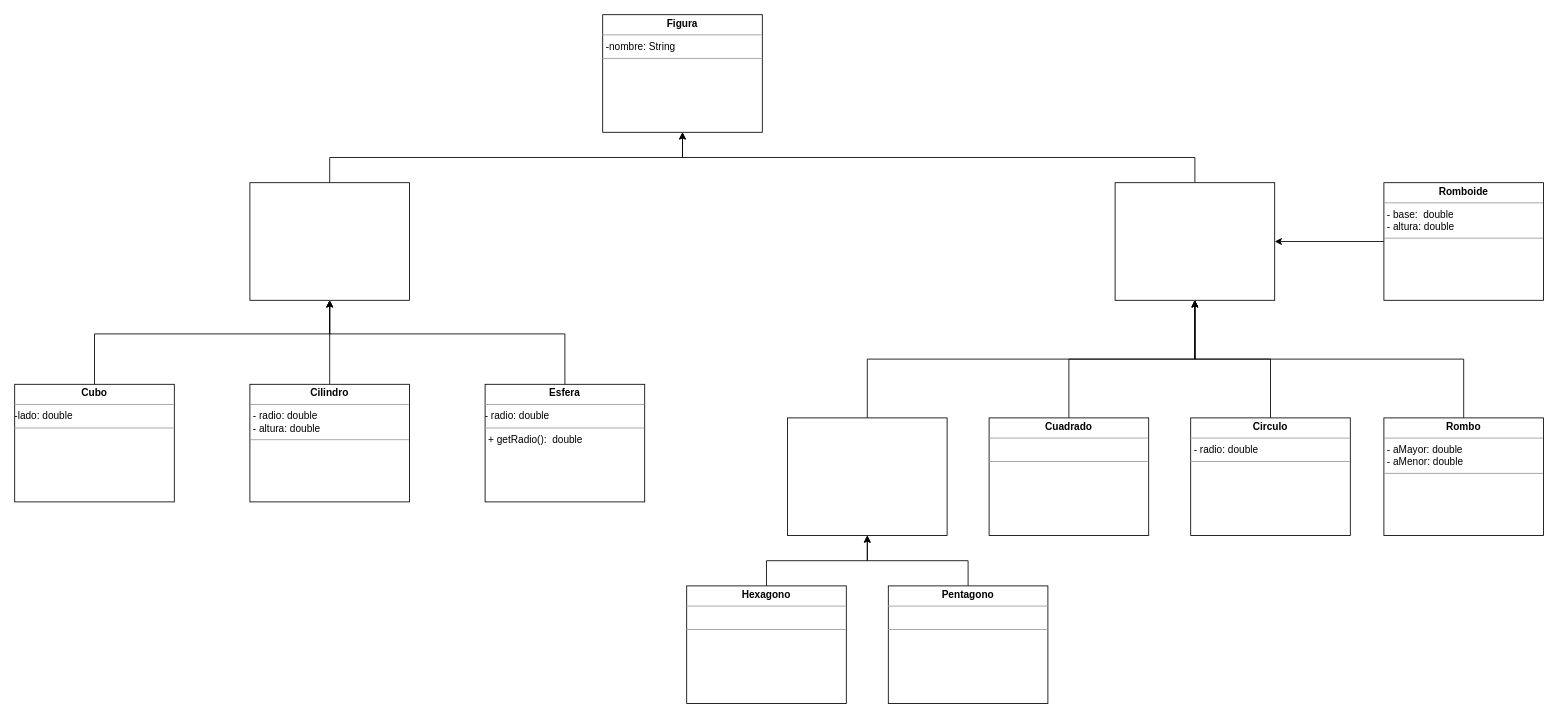
Some shapes in this 1558 by 718 pixel diagram are drawn without their labels. The shapes that lost their labels are listed below. From the top down, each one's centre as x and y in pixels, then its label:
(x=329, y=241): Figura3D + getVolumen(): double
(x=1194, y=241): Figura2D - lado: double + detArea(): double + getPerimetro(): double
(x=867, y=476): Polígono - apot: double - numLados: int
